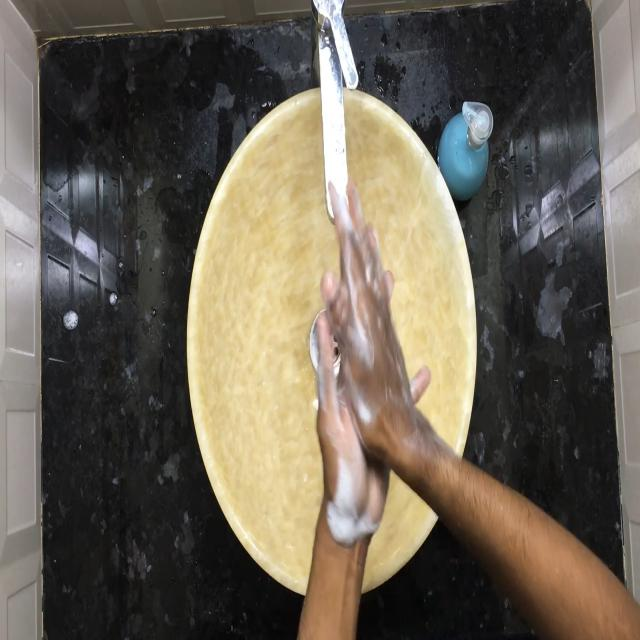step_3: (299, 174, 417, 517)
